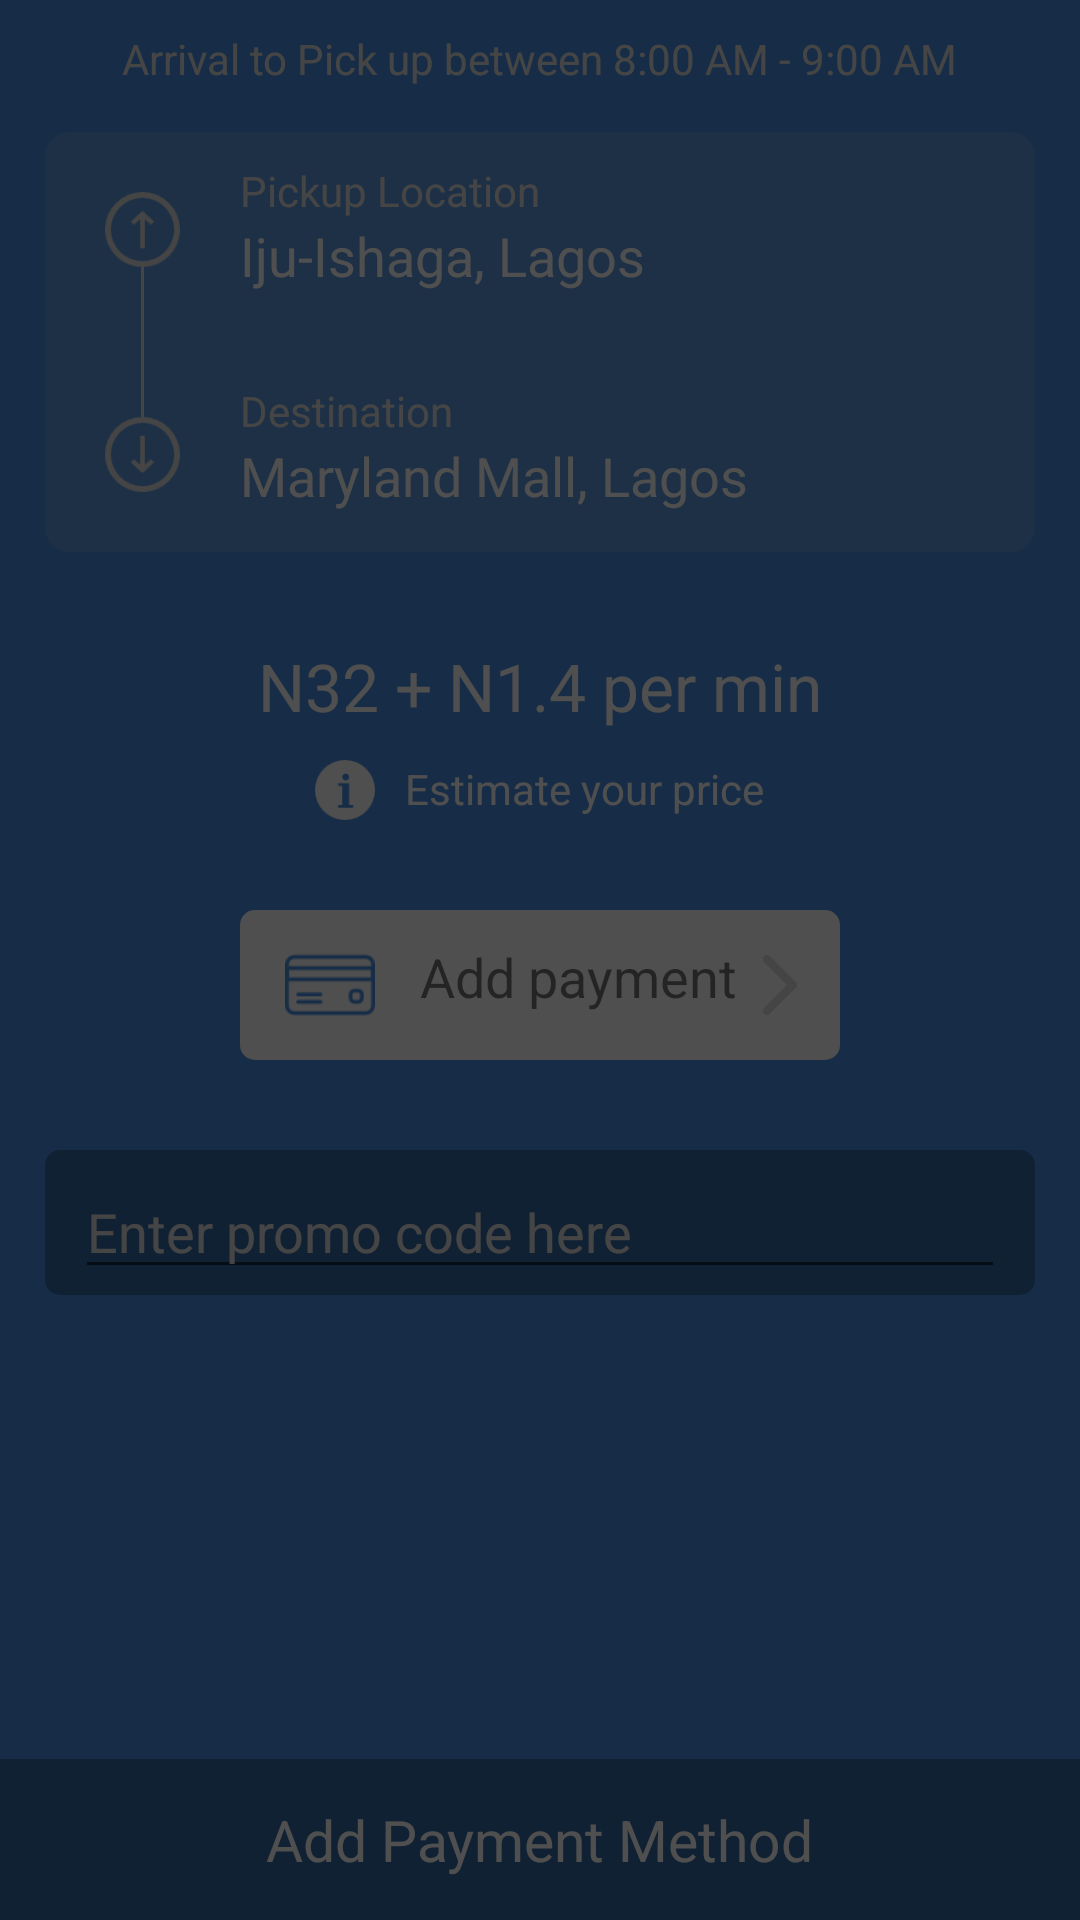

Named icons in this screenshot (1080 × 1920) and their bounding boxes, (x1, y1, x2, y2):
credit card: (285, 955, 375, 1015)
down arrow in circular: (105, 417, 180, 492)
info circular: (315, 760, 375, 820)
up arrow in circular: (105, 192, 180, 267)
